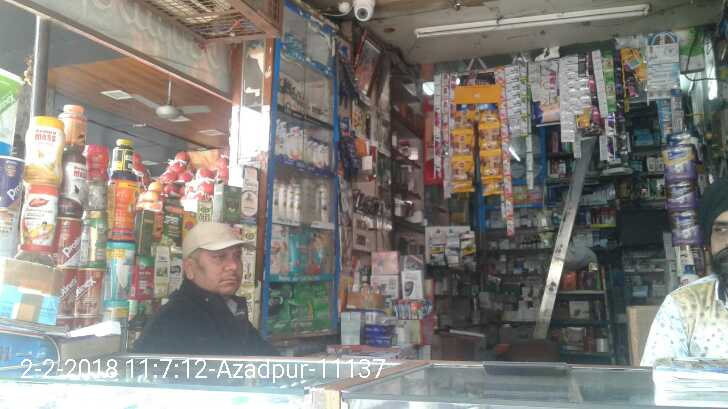vicks: (282, 31, 317, 62)
